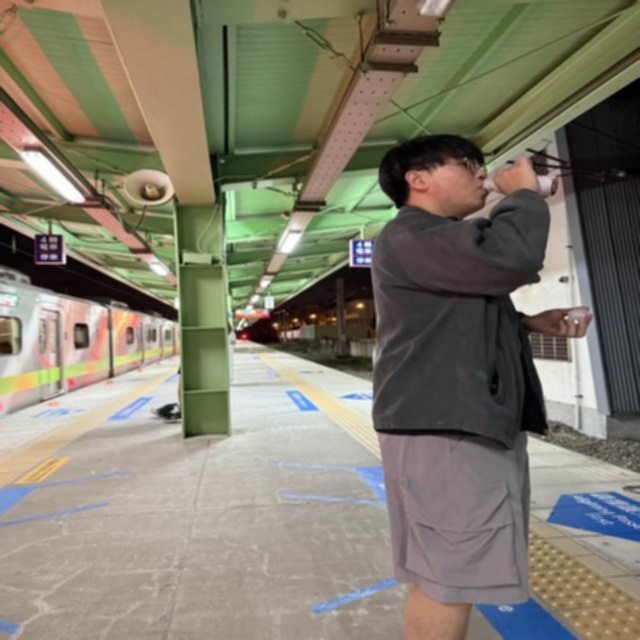Sin_Casco_Mascarrilla: (380, 134, 482, 211)
Sin_Chaleco: (373, 218, 530, 434)
